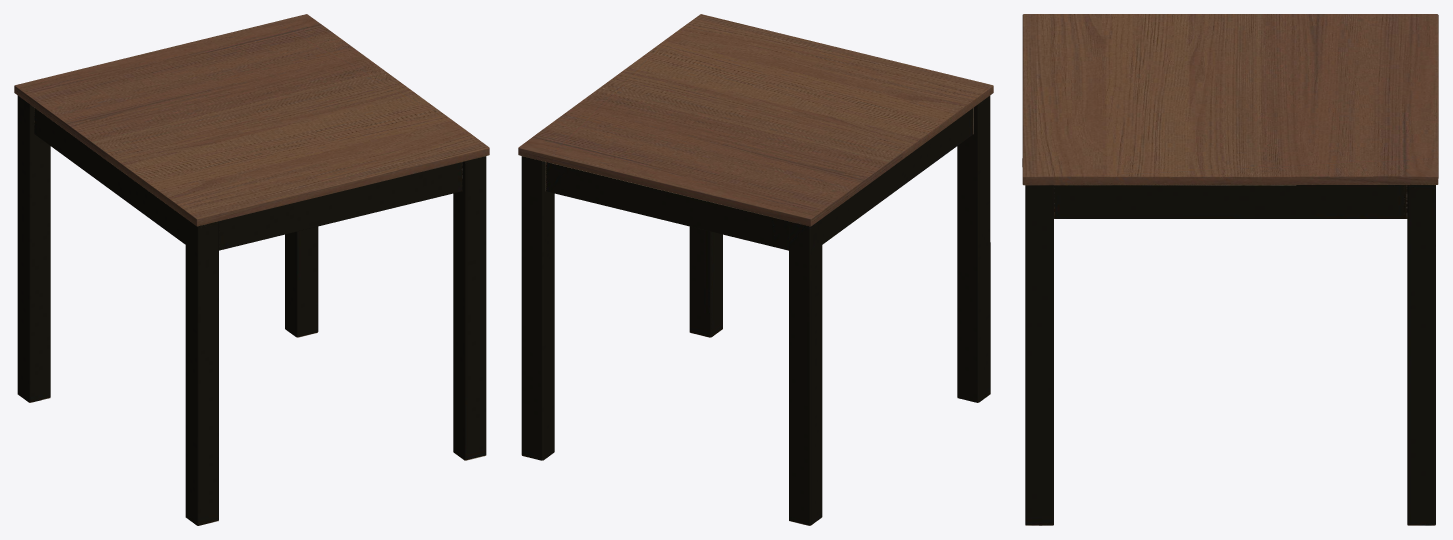
The picture shows the model from 3 angles, left to right: view 1: azimuth 30°, elevation 25°; view 2: azimuth 150°, elevation 25°; view 3: azimuth 270°, elevation 25°; orthographic projection. The views are drawn at different scales.
Visible parts, largest first — view 1: ASY_ART_70600796_S01_NV01; view 2: ASY_ART_70600796_S01_NV01; view 3: ASY_ART_70600796_S01_NV01.
Part boxes in pixels (bbox=[...]): ASY_ART_70600796_S01_NV01: bbox=[14, 14, 489, 525]; ASY_ART_70600796_S01_NV01: bbox=[518, 14, 993, 525]; ASY_ART_70600796_S01_NV01: bbox=[1022, 14, 1438, 525].
Bounding box in the file's own units: 0.74 × 0.7472 × 0.8005.
Materials: 1 (1 with a texture image).
